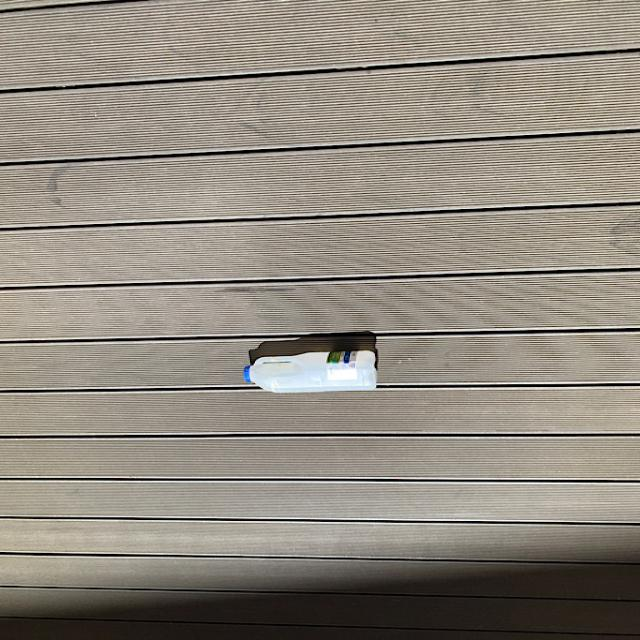litter: (241, 347, 385, 396)
